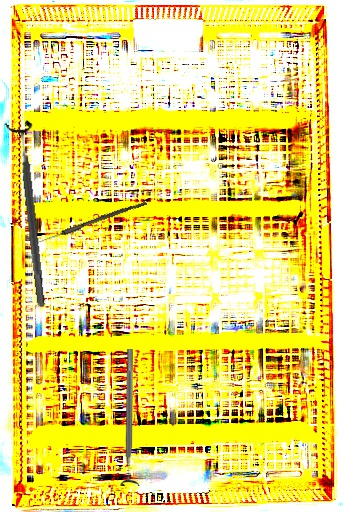Fixation Ring: (4, 118, 56, 309), (119, 349, 141, 486)
Surgical Spoon: (32, 198, 148, 248)
